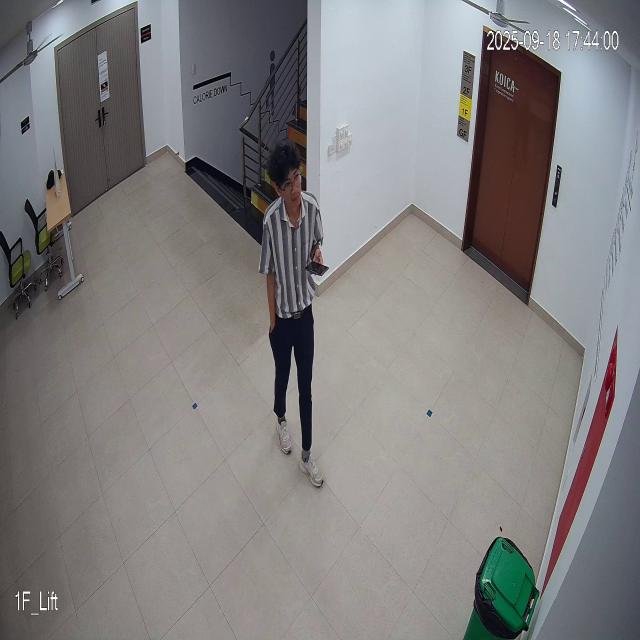face: (272, 145, 306, 218)
